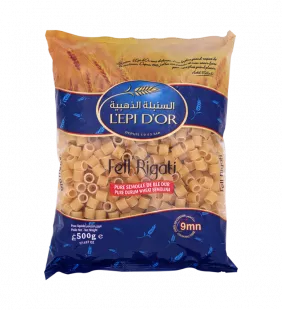L'EPI D'OR: (36, 20, 244, 285)
